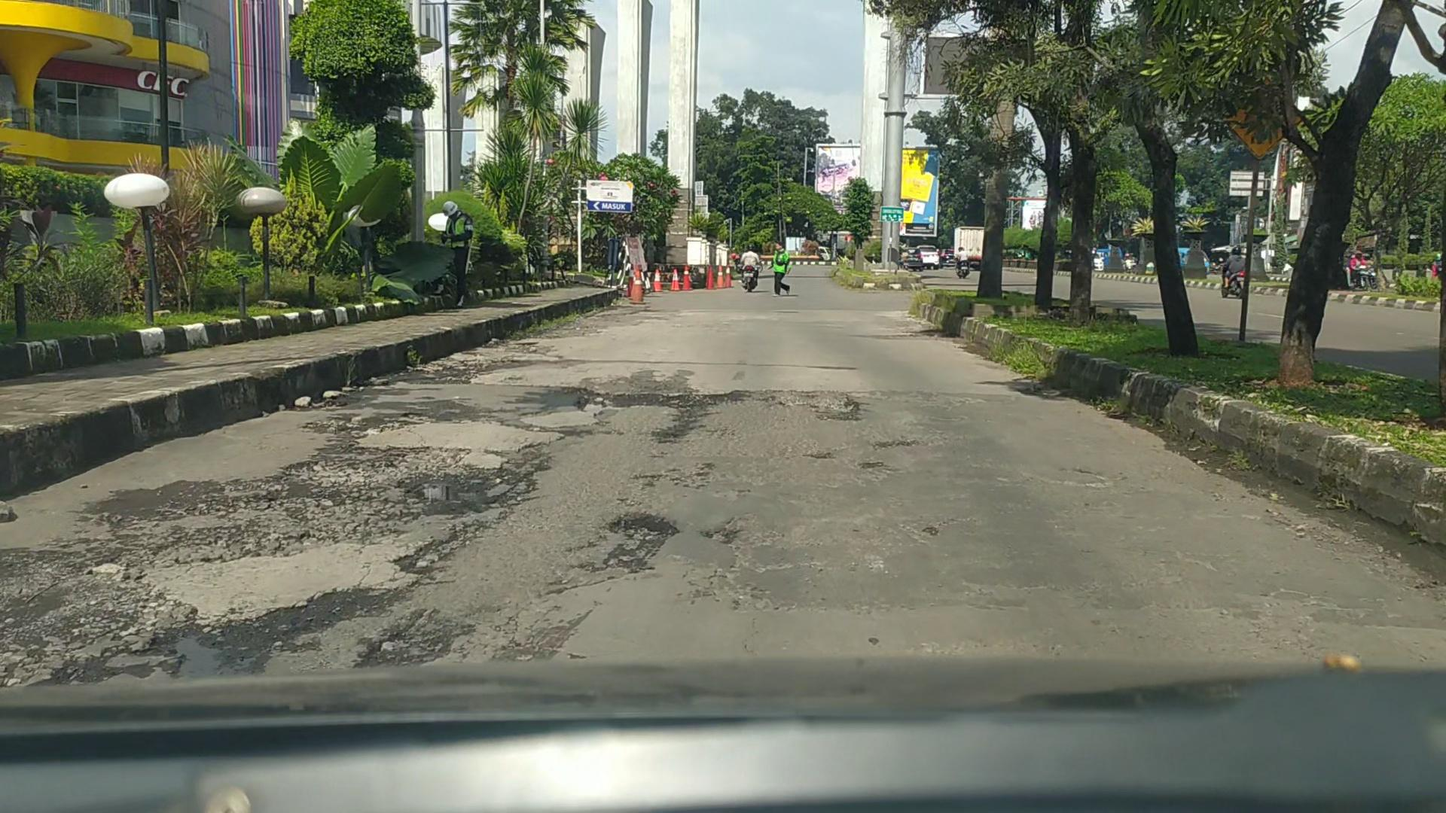pothole: (59, 592, 392, 687), (400, 471, 518, 512), (606, 521, 664, 577), (521, 388, 585, 418), (813, 392, 856, 418)
